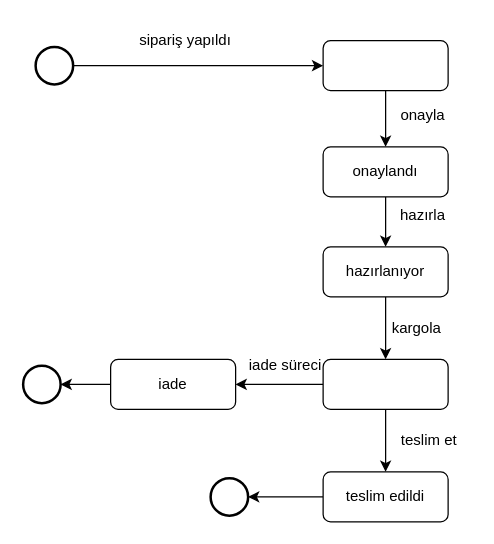
This 494x544 diagram has some shape labels left out. The shapes that lost their labels are listed below. From the top down, each one's centre as x and y in pixels, then its label:
At point (385, 65): "beklemede".
At point (385, 383): "kargoda".
